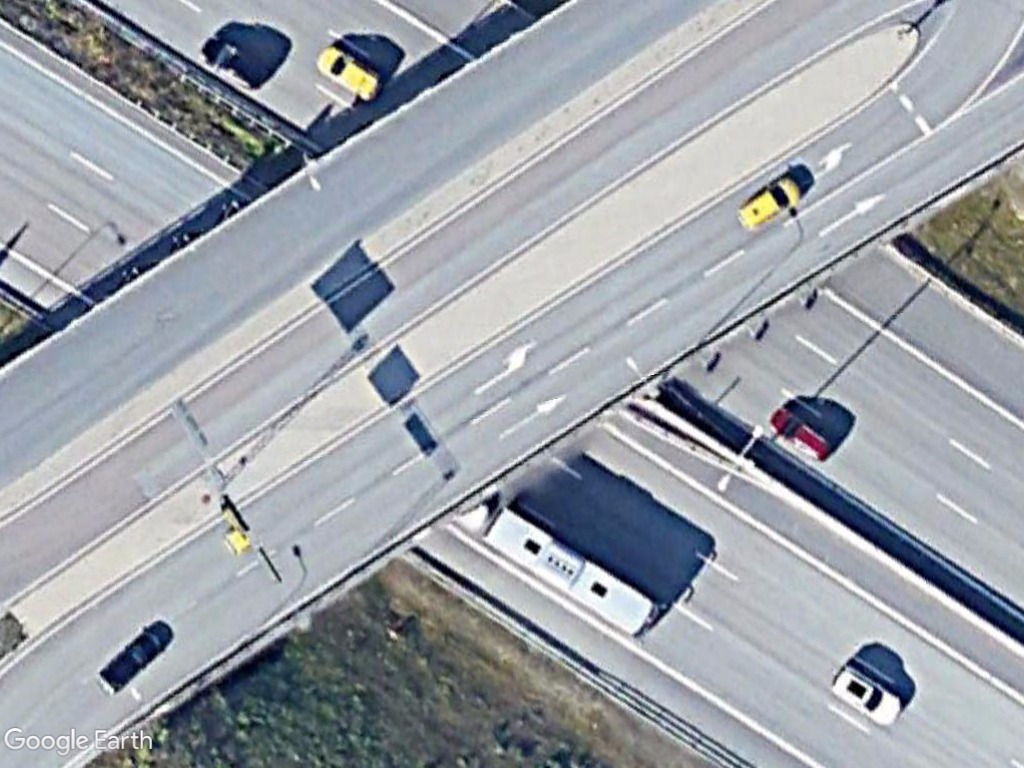bus: (474, 504, 665, 641)
car: (821, 657, 910, 735), (731, 169, 813, 237), (193, 30, 273, 98), (314, 45, 387, 106), (765, 401, 834, 465)
